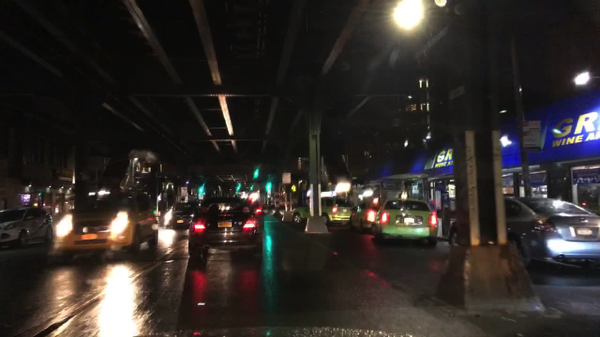car: (447, 196, 599, 272), (53, 193, 158, 262), (187, 196, 264, 257), (371, 198, 440, 247), (0, 207, 53, 248), (291, 196, 353, 226), (349, 203, 380, 232), (169, 202, 198, 230), (277, 198, 291, 206)
traffic light: (196, 185, 206, 196), (265, 182, 274, 193), (234, 184, 243, 193), (251, 170, 261, 178), (247, 185, 256, 192)
traffic sign: (521, 123, 540, 150), (283, 172, 290, 184), (290, 184, 296, 192)
